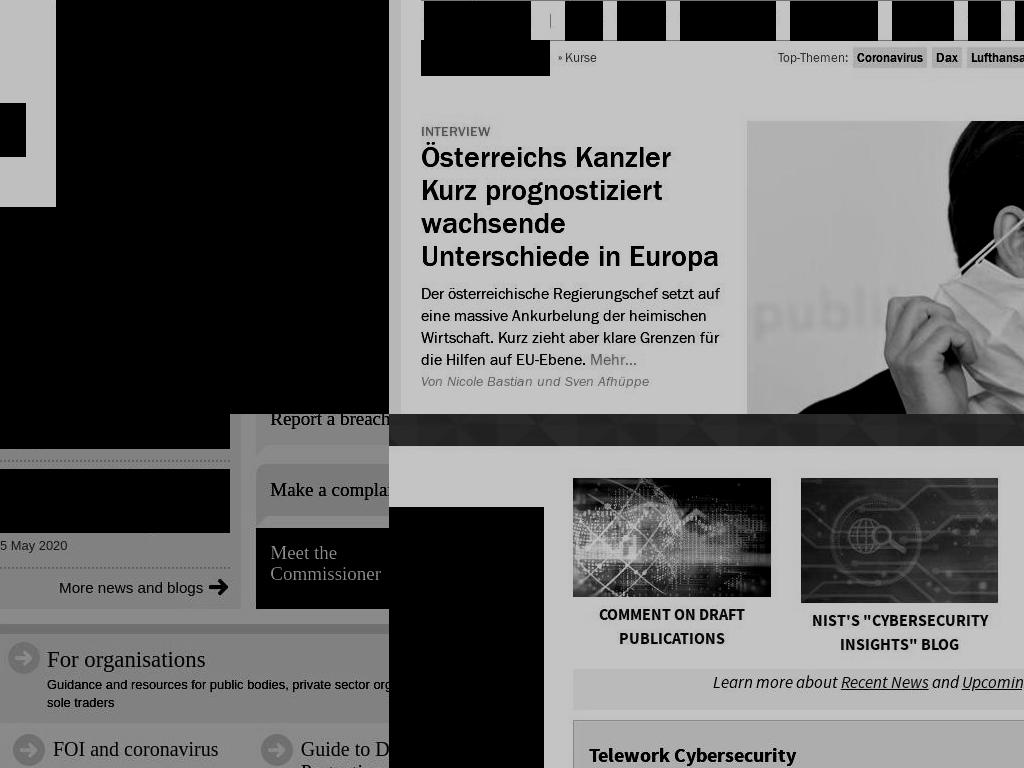button: (421, 121, 1024, 414), (0, 624, 389, 724), (0, 469, 230, 556), (256, 520, 389, 610), (5, 728, 239, 768), (0, 414, 230, 449), (59, 567, 230, 610), (256, 464, 389, 517), (389, 507, 544, 548), (389, 547, 544, 588), (389, 587, 544, 628), (389, 627, 544, 668), (389, 667, 544, 708), (389, 707, 544, 748), (252, 728, 389, 768), (421, 40, 550, 76), (424, 1, 531, 41), (256, 414, 389, 446), (680, 1, 776, 41), (790, 1, 878, 41), (389, 747, 544, 768), (777, 40, 848, 76), (892, 1, 954, 41), (617, 1, 666, 41), (852, 47, 927, 68), (565, 1, 603, 41), (558, 40, 597, 76), (968, 1, 1001, 41), (966, 47, 1024, 68), (931, 47, 962, 68)
heading: (421, 142, 719, 272), (0, 469, 230, 533), (47, 645, 389, 673), (811, 610, 988, 656), (599, 603, 746, 649), (421, 121, 727, 141), (589, 741, 797, 768), (53, 738, 239, 762), (148, 362, 328, 386), (0, 362, 128, 386), (0, 414, 230, 426), (300, 738, 389, 768), (348, 362, 389, 386)
image: (56, 0, 389, 270), (747, 121, 1024, 414), (800, 477, 999, 603), (573, 477, 771, 597), (16, 303, 60, 347), (216, 303, 260, 347), (260, 740, 293, 767), (8, 648, 40, 675), (13, 740, 45, 767)
link: (47, 675, 389, 712), (0, 430, 230, 449), (0, 537, 230, 556), (840, 672, 929, 694), (961, 672, 1024, 694)
text: (421, 286, 720, 368), (421, 371, 727, 391), (270, 542, 382, 585), (148, 391, 328, 414), (0, 391, 128, 414), (712, 672, 841, 694), (59, 578, 209, 596), (270, 478, 389, 500), (270, 414, 389, 429), (513, 547, 544, 588), (513, 587, 544, 628), (348, 391, 389, 414), (446, 51, 511, 64), (586, 352, 637, 368), (928, 672, 962, 694), (513, 747, 544, 768), (511, 51, 550, 64), (421, 51, 446, 64)
